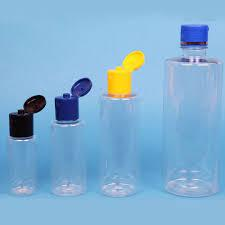Plastic: (96, 51, 144, 199)
